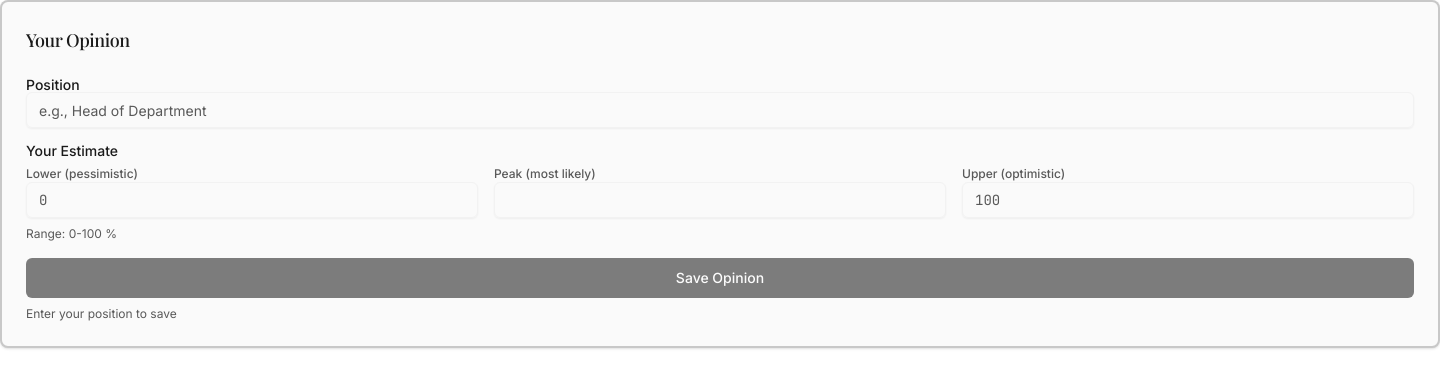
Test: OpinionForm - Submission › shows a scale-range error for out-of-range values
The width and height of the screenshot is (1440, 366).
Type "Director" into the field labelled "Position".
click(720, 110); type("Director")  # box [26,92,1414,128]
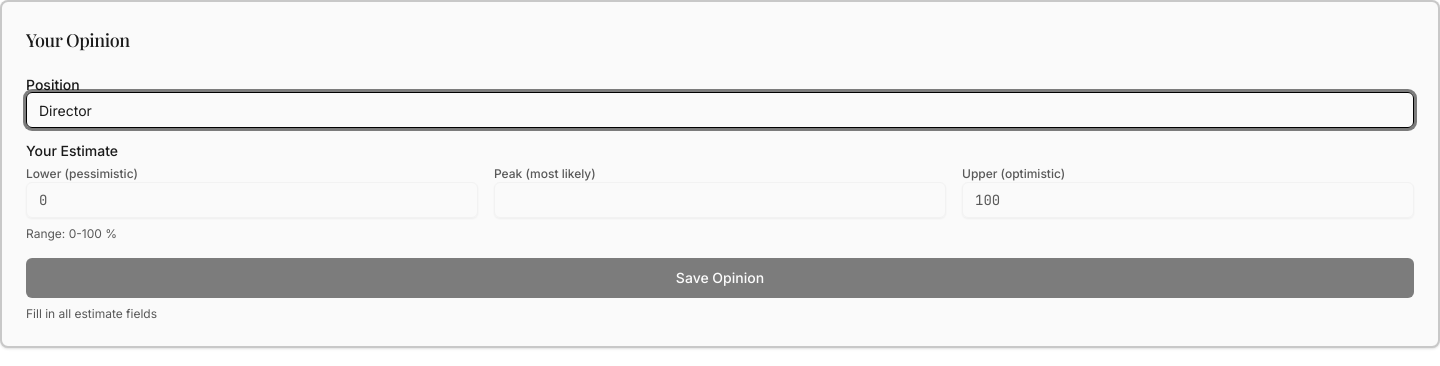
Type "10" into the number field labelled "Lower (pessimistic)".
click(252, 200); type("10")  # box [26,182,478,218]
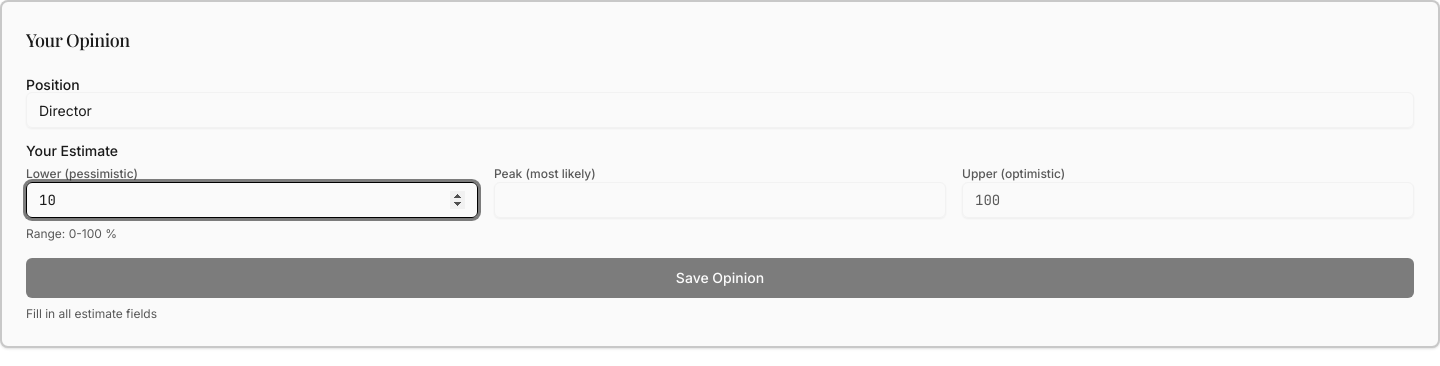
Type "50" into the number field labelled "Peak (most likely)".
click(720, 200); type("50")  # box [494,182,946,218]
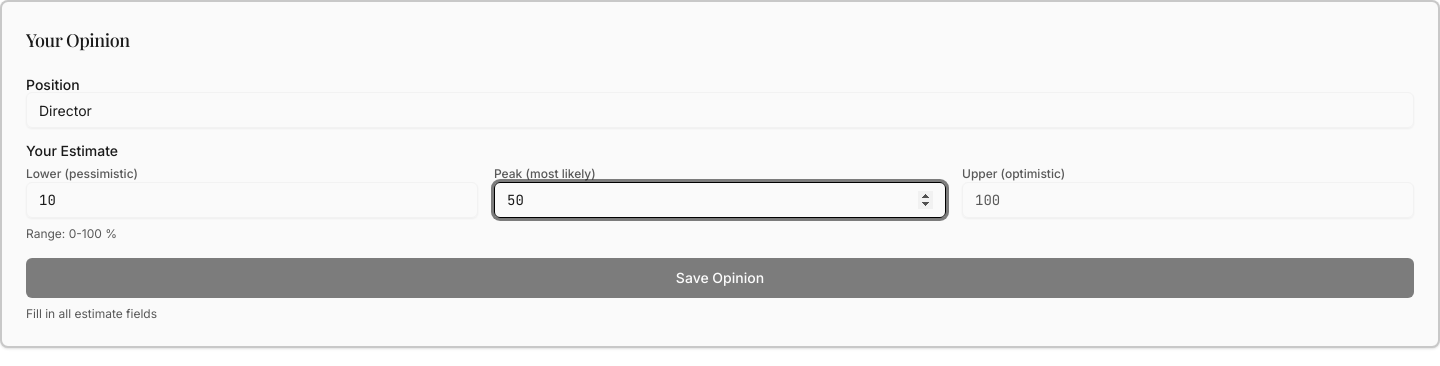
Type "150" into the number field labelled "Upper (optimistic)".
click(1188, 200); type("150")  # box [962,182,1414,218]
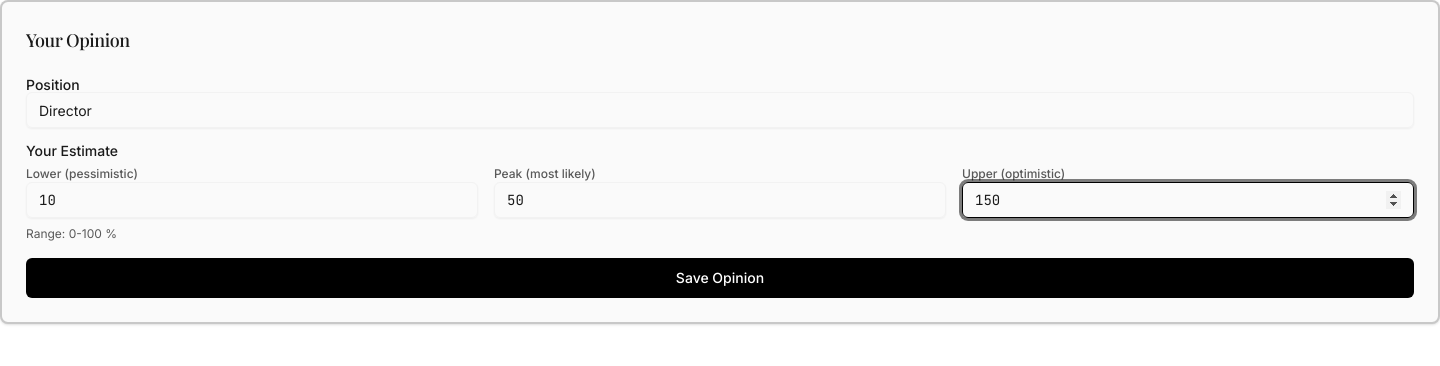
Click the button "Save Opinion".
click(720, 278)  # box [26,258,1414,298]
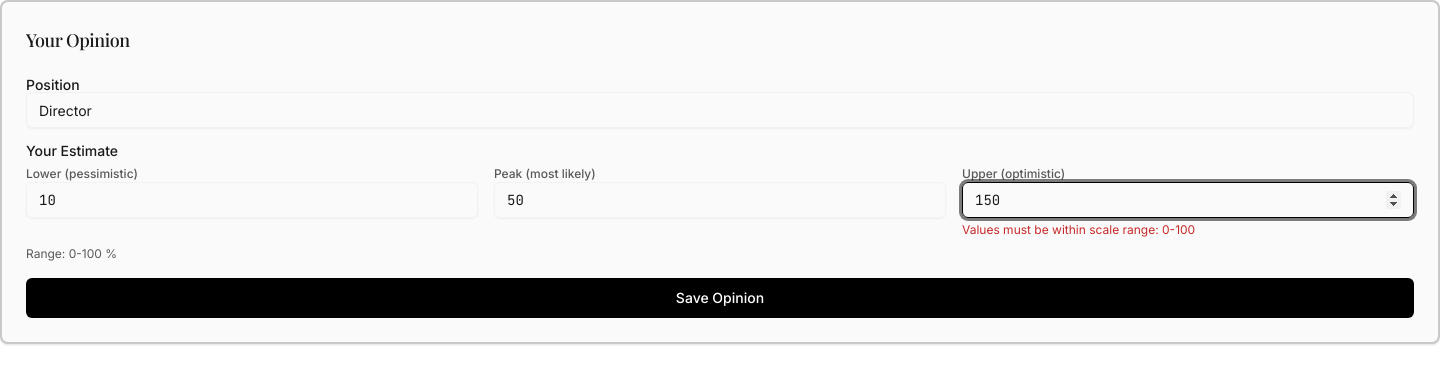
expect the text "Values must be within scale range: 0-100" is shown: met, box [962,222,1195,237]
